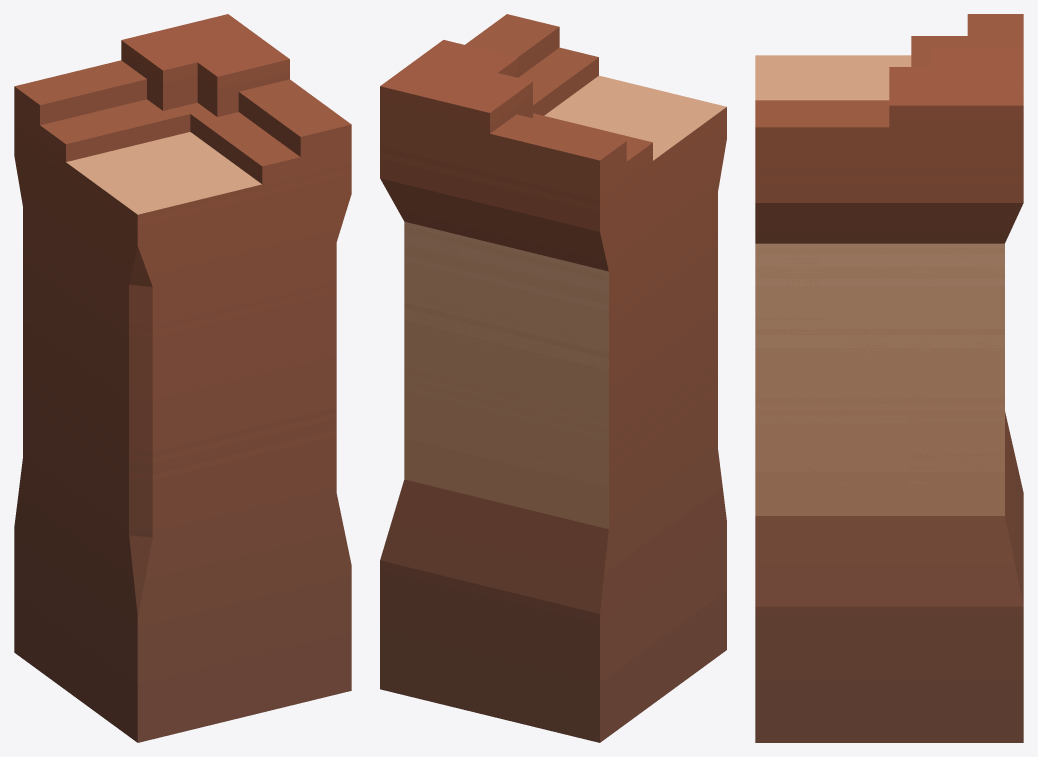
The model's file is wall-narrow-corner.glb.
3 renders of one model, left to right at view 1: azimuth 30°, elevation 25°; view 2: azimuth 150°, elevation 25°; view 3: azimuth 270°, elevation 25°, orthographic. The views are drawn at different scales.
Visible parts, largest first — view 1: wall-narrow-corner; view 2: wall-narrow-corner; view 3: wall-narrow-corner.
Part boxes in pixels (x1,y1,x2,y2): wall-narrow-corner: (14,14,351,742); wall-narrow-corner: (380,14,726,742); wall-narrow-corner: (755,14,1023,742).
Bounding box in the file's own units: 1.5 × 3.93 × 1.5.
Materials: 1 (1 with a texture image).
